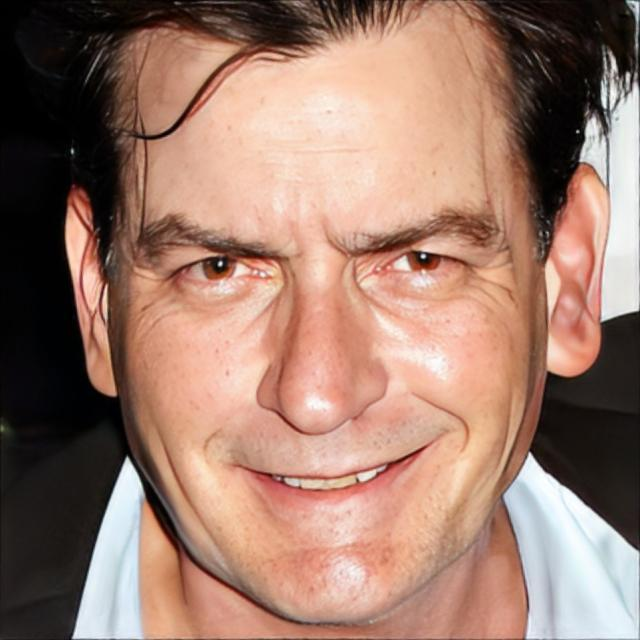content: (114, 0, 548, 623)
